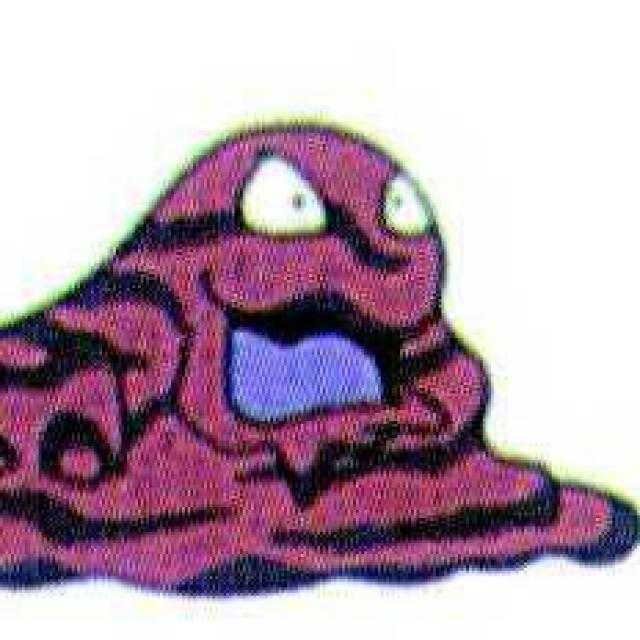Grimer: (0, 121, 492, 589)
